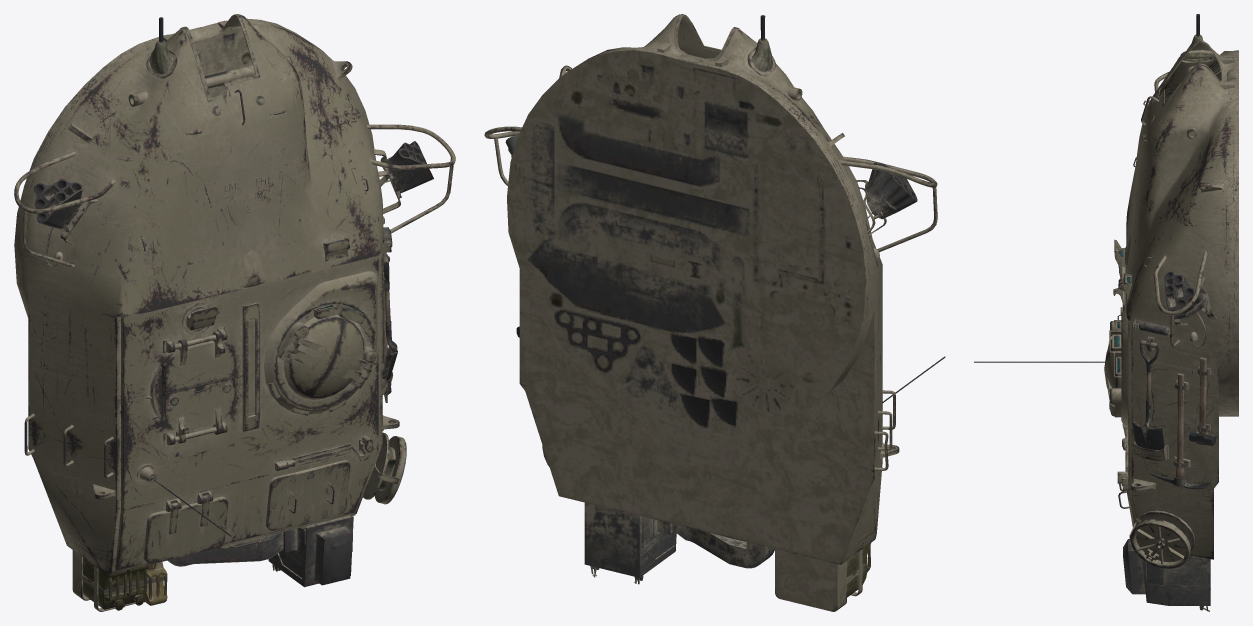
The model's file is Turret_01.glb.
3 views of the same model, side by side, from view 1: azimuth 30°, elevation 25°; view 2: azimuth 150°, elevation 25°; view 3: azimuth 270°, elevation 25° (orthographic). The views are drawn at different scales.
Visible parts, largest first — view 1: set_0_group_0; view 2: set_0_group_0; view 3: set_0_group_0.
Boxes of the visible parts, left/top/right/bottom form: set_0_group_0: left=14, top=14, right=455, bottom=611; set_0_group_0: left=484, top=14, right=945, bottom=611; set_0_group_0: left=974, top=14, right=1238, bottom=611.
Size of the model in its own units: 3.42 by 4.38 by 1.99.
Materials: 1 (1 with a texture image).
